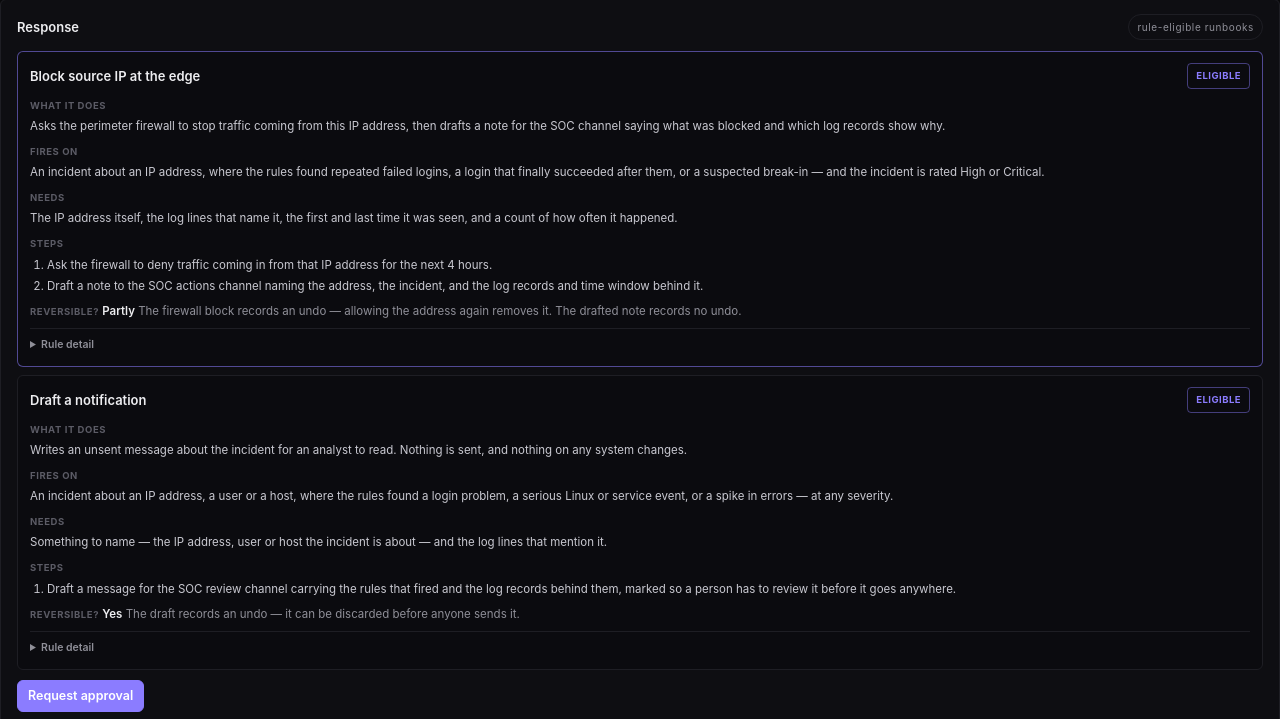
Test case: Incidents Response panel — C4-F1 › Request approval CREATES a pending approval, then links into the Approvals screen
Click the button with test id "request-approval": (81, 696) [17,680,144,712]
(page scrolled)
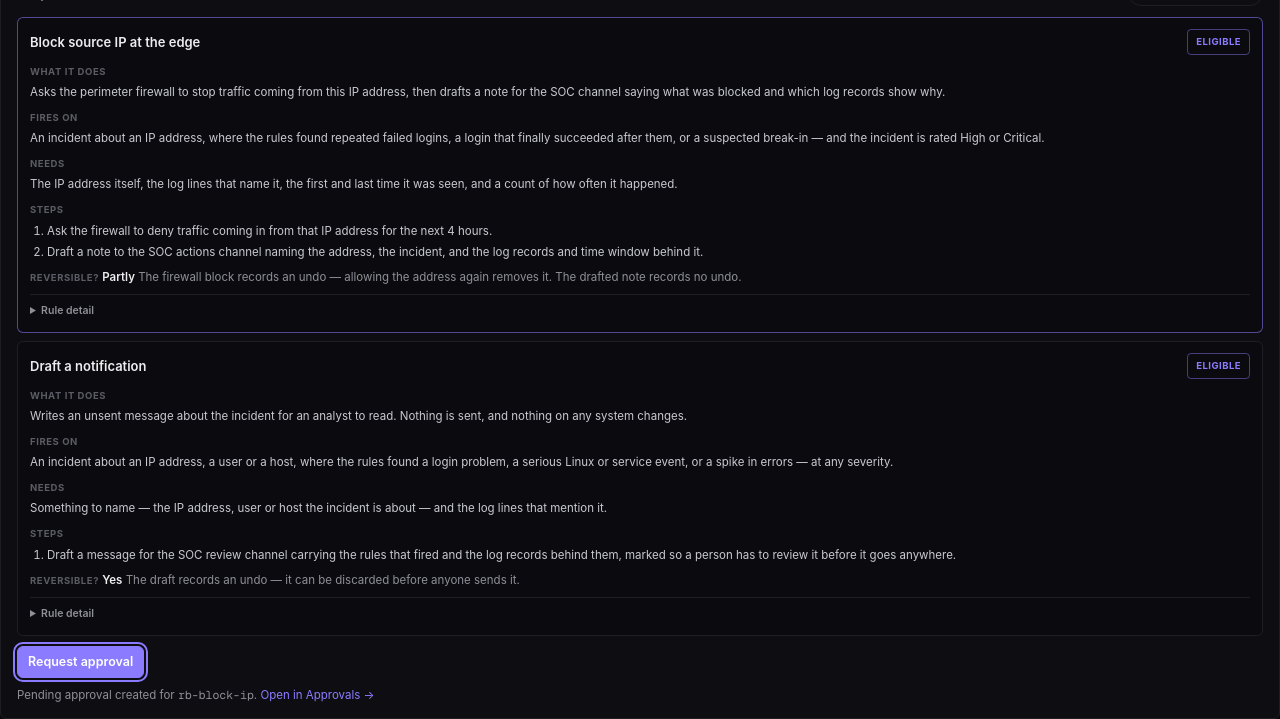
Now the element with test id "approval-created" shows "Pending approval created", box [17,688,178,702]
